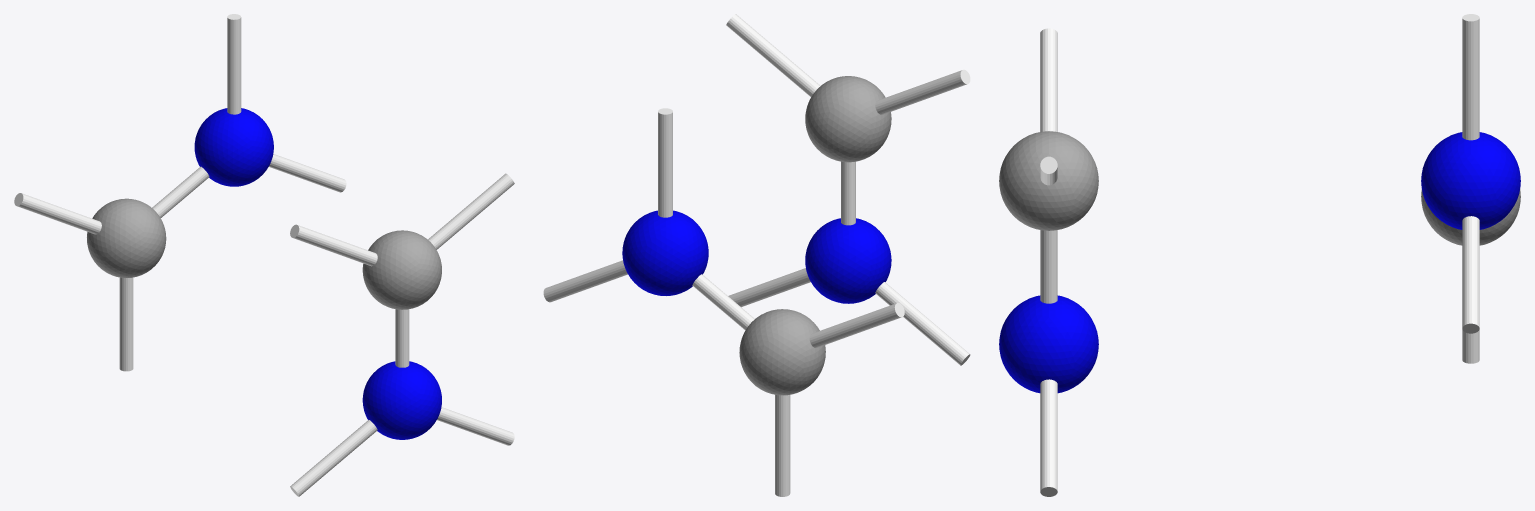
The model's file is structure_mpstyle.glb.
3 renders of one model, left to right at view 1: azimuth 30°, elevation 25°; view 2: azimuth 150°, elevation 25°; view 3: azimuth 270°, elevation 25°, orthographic. The views are drawn at different scales.
Visible parts, largest first — view 1: world; view 2: world; view 3: world.
Boxes of the visible parts, x1=… form: world: x1=14, y1=14, x2=514, y2=496; world: x1=543, y1=14, x2=970, y2=496; world: x1=999, y1=14, x2=1520, y2=496.
Bounding box in the file's own units: 3.82 × 3.67 × 4.18.
